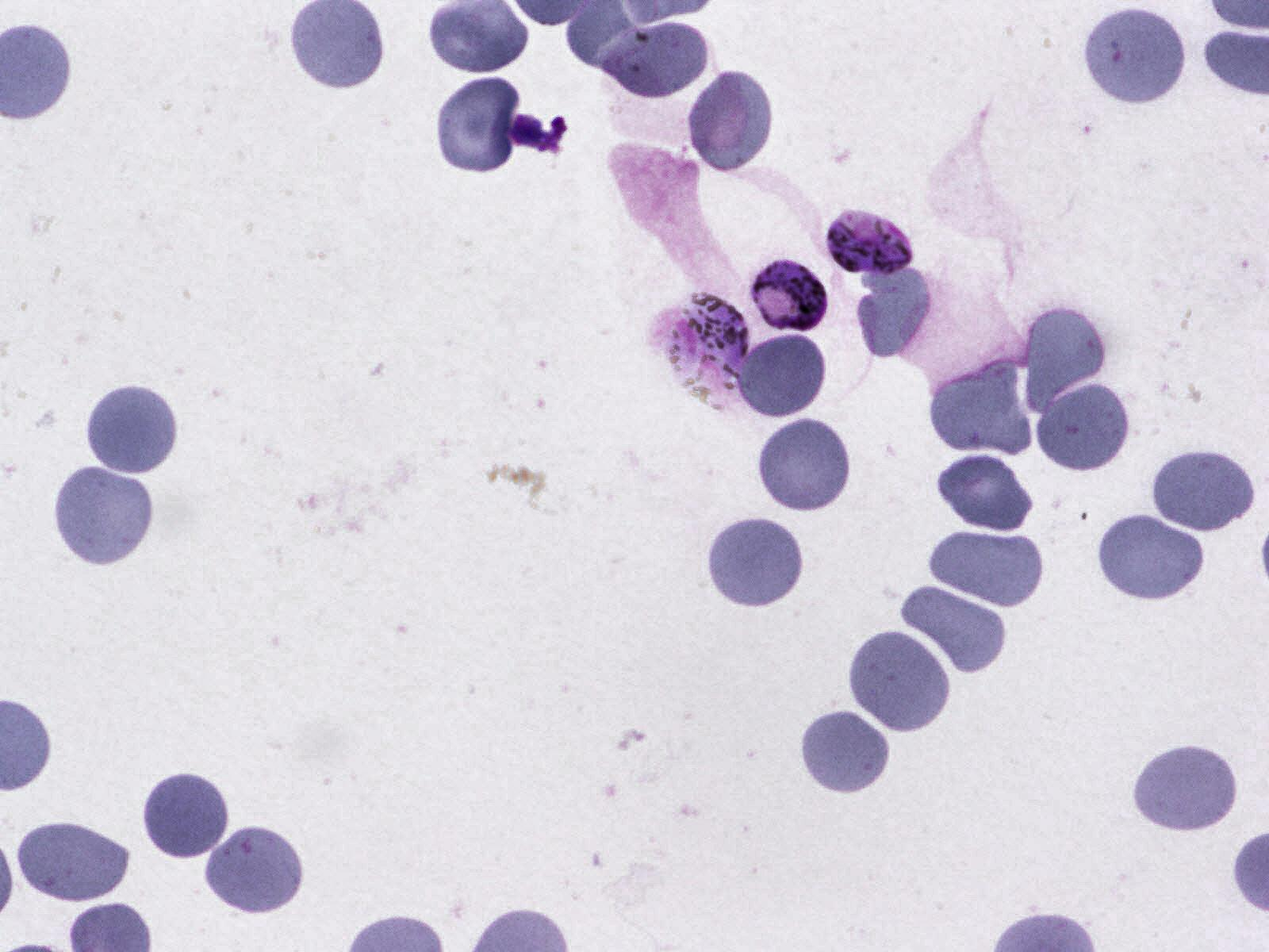Infected: (826, 208, 916, 278), (749, 258, 830, 335)
Uninfected: (846, 628, 952, 735), (51, 463, 156, 566), (198, 822, 308, 919), (11, 819, 134, 904), (1129, 741, 1241, 834), (683, 63, 776, 175), (931, 355, 1033, 456), (593, 20, 715, 104), (926, 524, 1045, 610), (1095, 512, 1209, 601), (901, 583, 1010, 674), (704, 513, 804, 612), (1083, 7, 1182, 107), (756, 414, 853, 515), (1147, 446, 1259, 533), (83, 380, 181, 478), (1032, 378, 1130, 476), (799, 704, 895, 796), (140, 768, 233, 862), (1020, 304, 1108, 403), (733, 330, 827, 421), (437, 75, 523, 173), (853, 260, 934, 364), (937, 451, 1033, 533)
